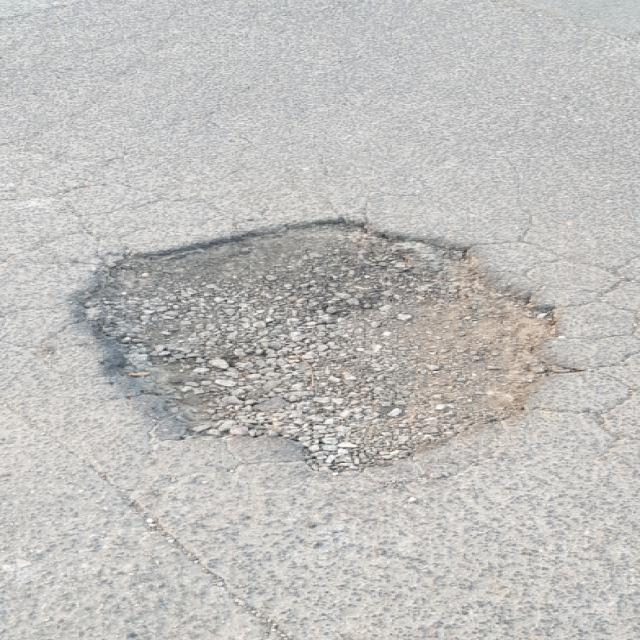pothole: (59, 212, 583, 478)
